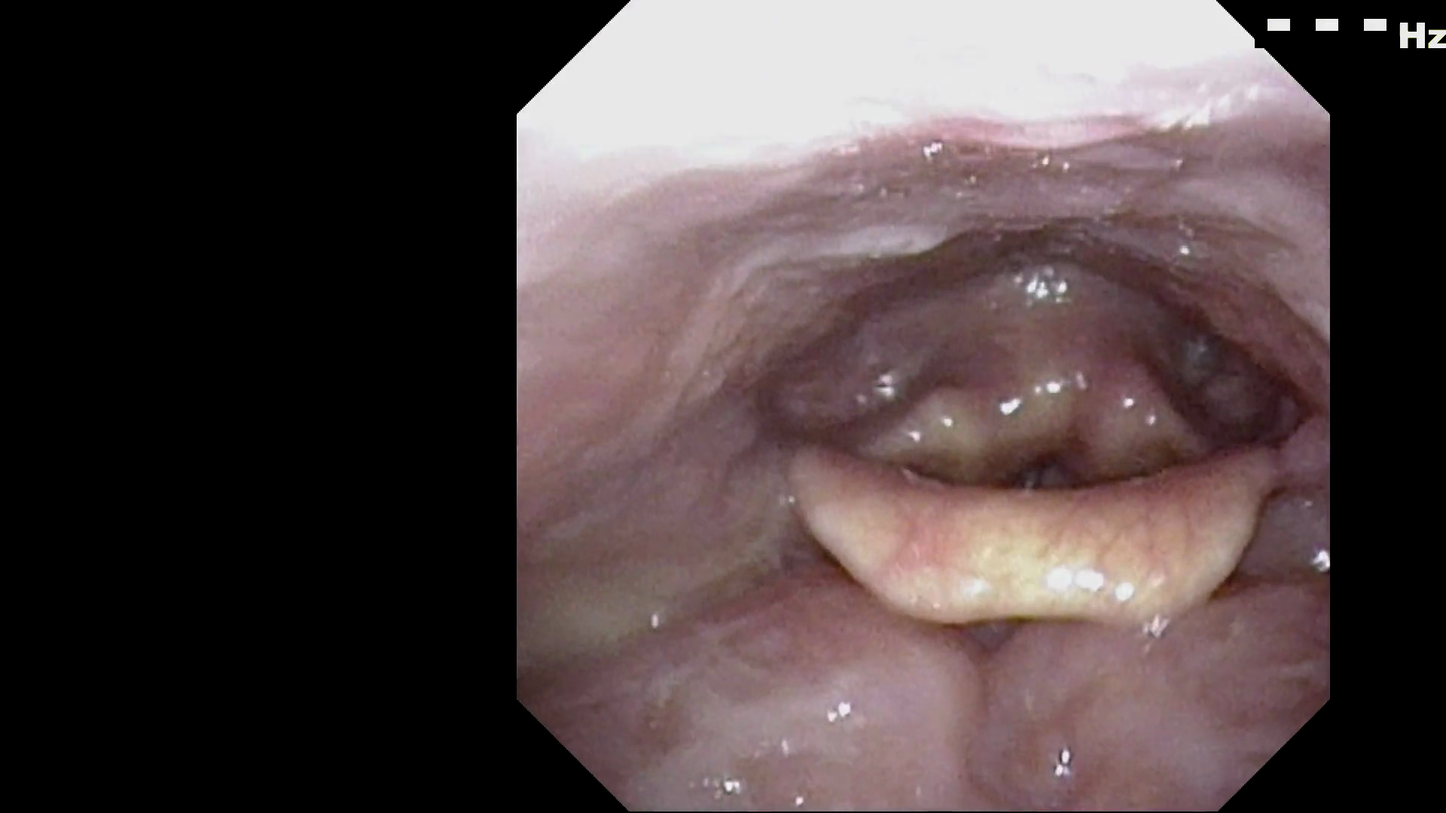epiglottis: (780, 415, 1305, 655)
trachea: (970, 392, 1117, 547)
